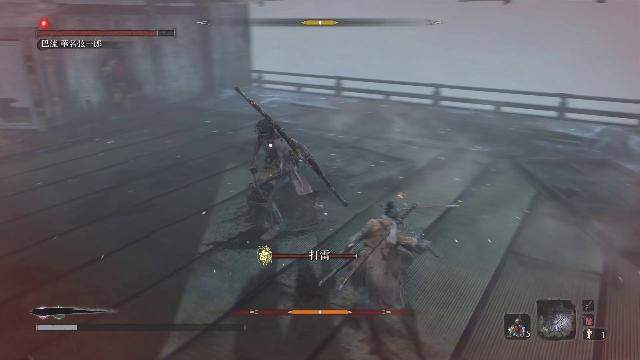sk: (343, 198, 435, 350)
